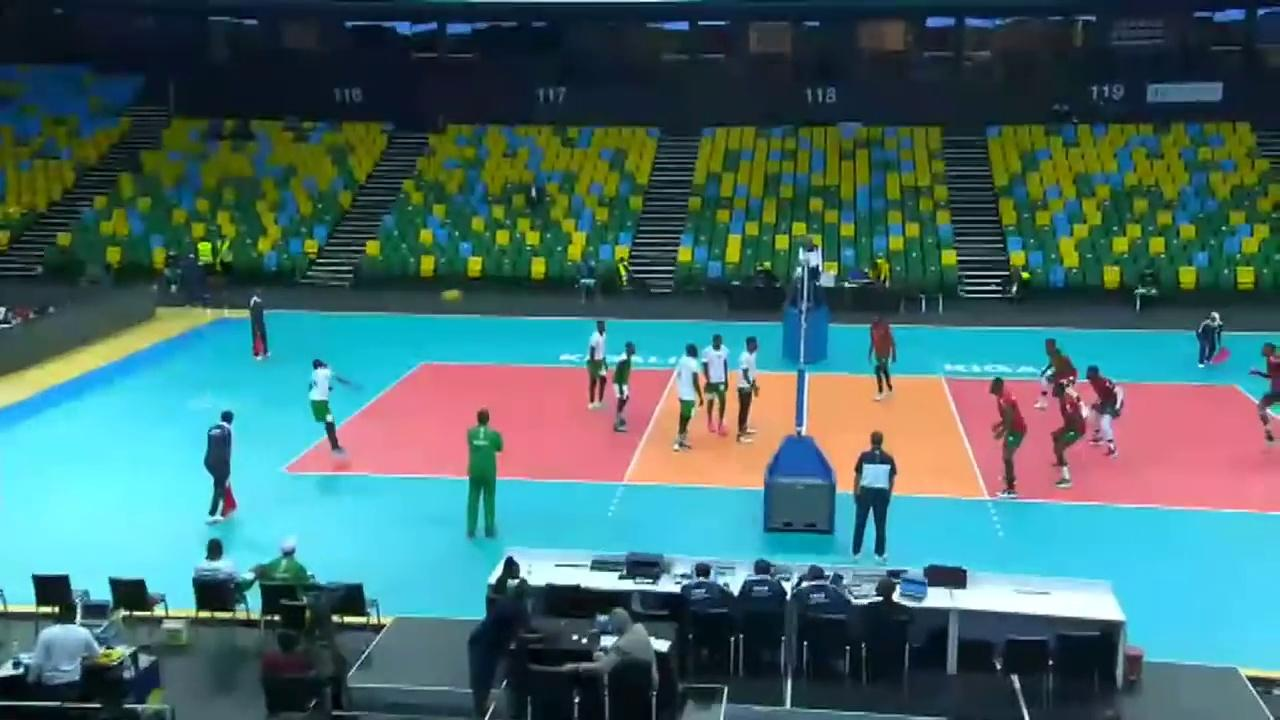player: (669, 343, 712, 449), (1047, 382, 1089, 487), (989, 381, 1026, 495), (1036, 331, 1086, 401), (308, 360, 344, 456), (1084, 367, 1122, 456), (728, 335, 759, 442), (702, 331, 731, 439), (585, 321, 613, 411), (1256, 339, 1280, 443), (610, 342, 637, 433), (870, 312, 896, 400)
refree: (847, 433, 900, 559), (202, 410, 234, 523), (796, 234, 825, 298), (1195, 310, 1224, 371), (250, 291, 269, 362)
